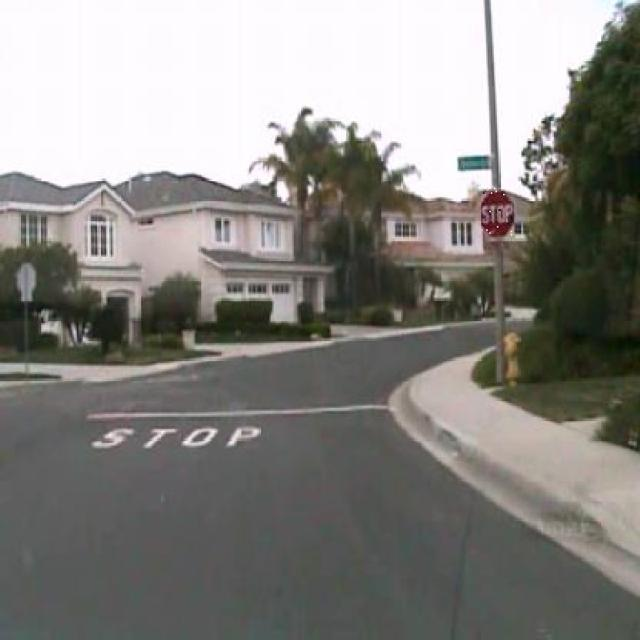stop: (478, 188, 516, 238)
